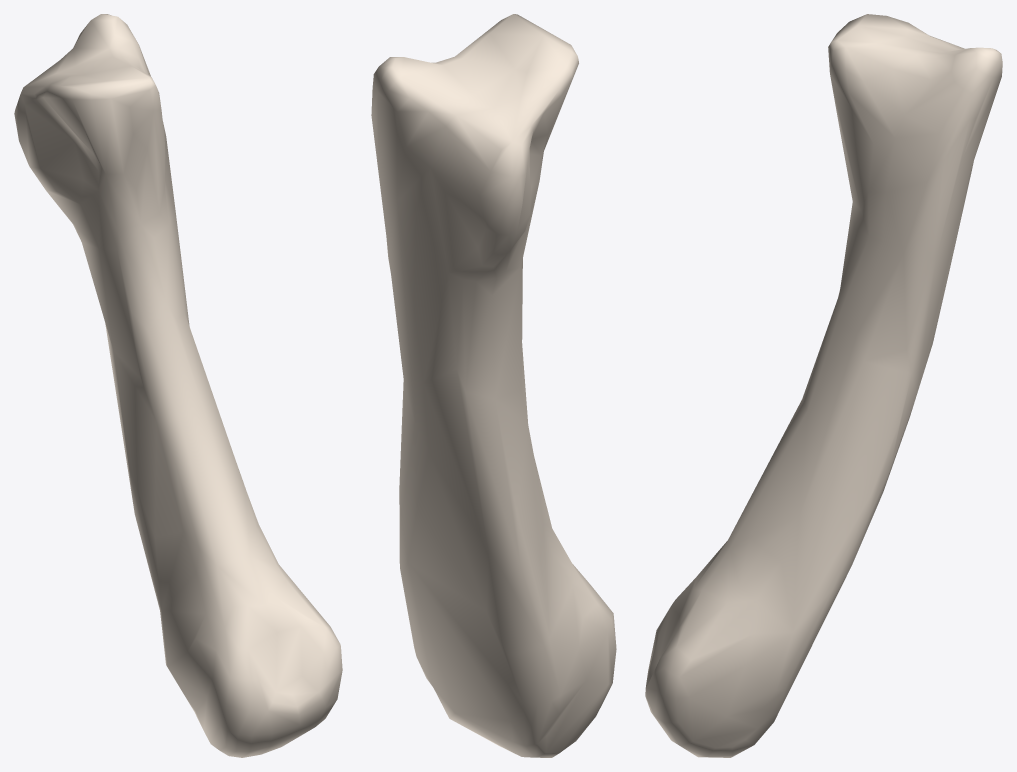
The model's file is left_metacarpal_3.glb.
The picture shows the model from 3 angles, left to right: view 1: azimuth 30°, elevation 25°; view 2: azimuth 150°, elevation 25°; view 3: azimuth 270°, elevation 25°; orthographic projection. The views are drawn at different scales.
Visible parts, largest first — view 1: 3rd metacarpal bone.r; view 2: 3rd metacarpal bone.r; view 3: 3rd metacarpal bone.r.
Part boxes in pixels (box(x1,y1,x2,y2)): 3rd metacarpal bone.r: box(14, 14, 342, 757); 3rd metacarpal bone.r: box(371, 14, 616, 757); 3rd metacarpal bone.r: box(645, 14, 1002, 757).
Bounding box in the file's own units: 0.02 × 0.0658 × 0.0309.
